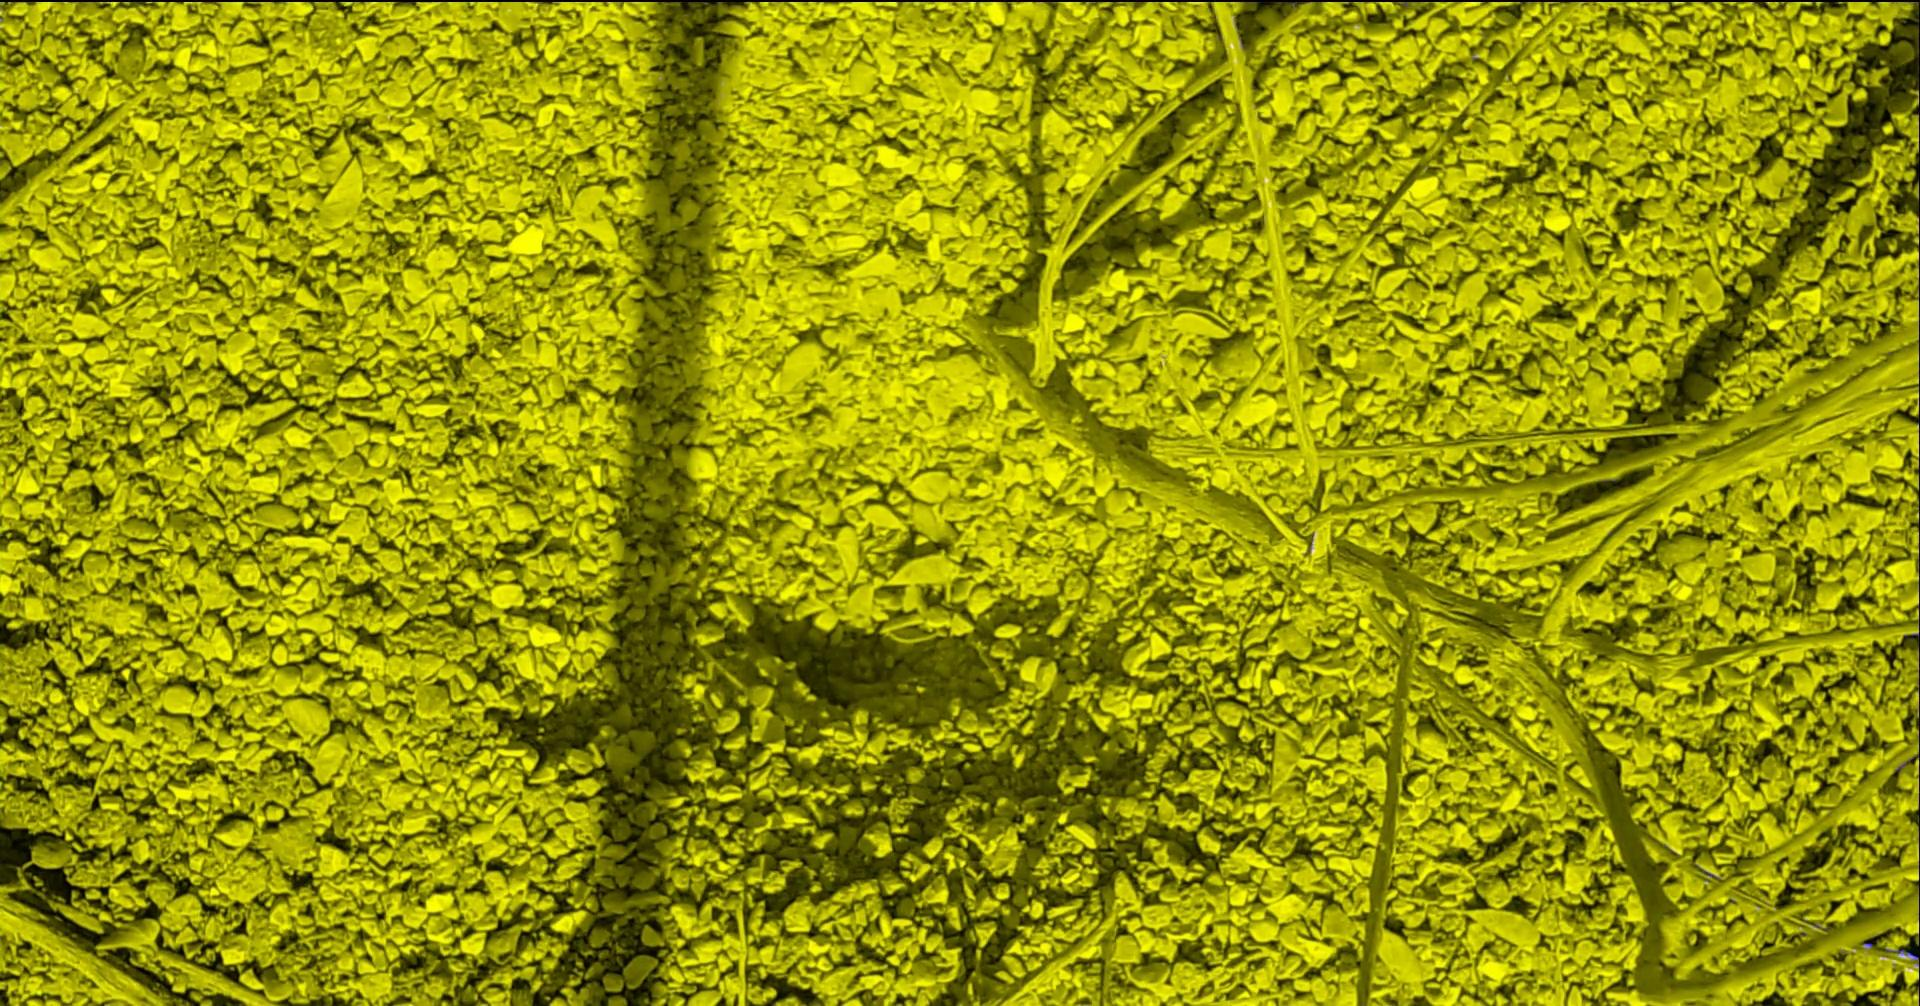ant: (1884, 949, 1919, 963)
